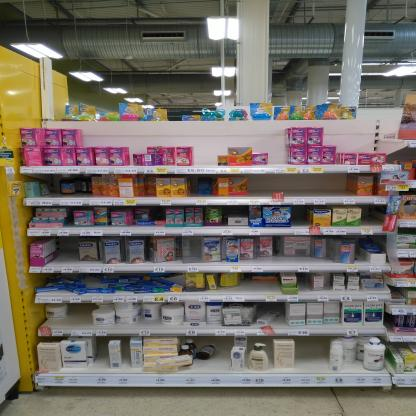empty_space: (301, 344, 327, 375), (251, 178, 272, 202), (194, 147, 217, 168), (59, 241, 76, 269), (70, 309, 89, 332), (331, 180, 352, 199), (365, 208, 384, 228), (292, 207, 309, 229), (288, 182, 304, 201), (314, 178, 326, 199), (275, 148, 287, 167)
